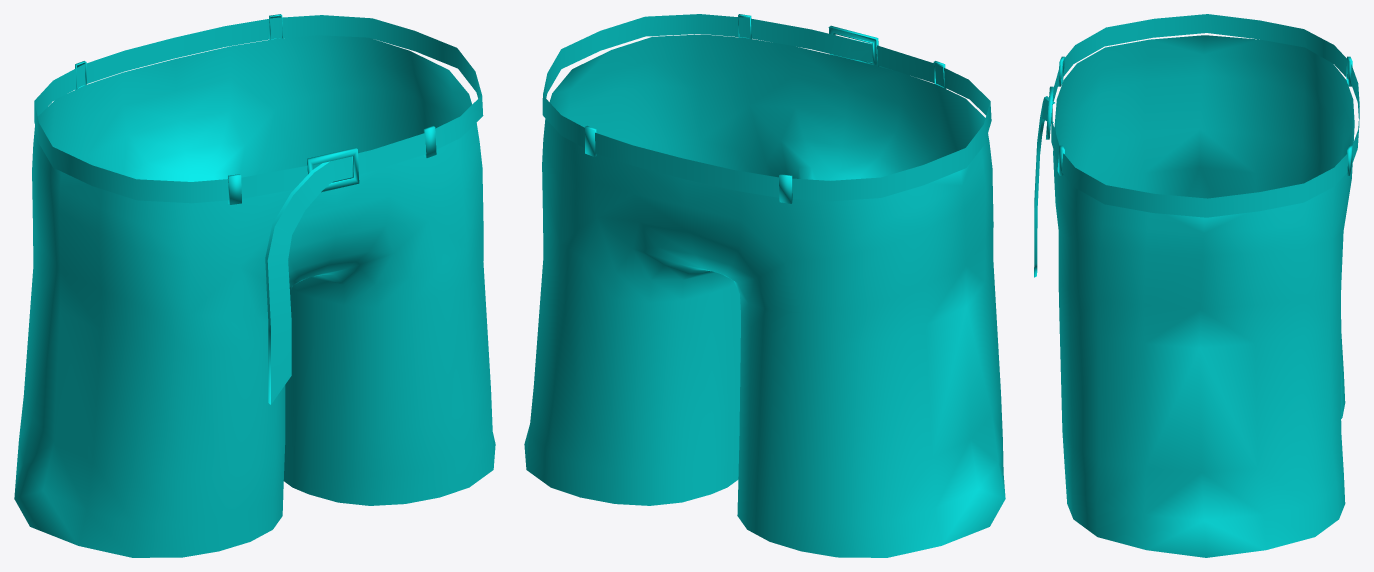
The picture shows the model from 3 angles, left to right: view 1: azimuth 30°, elevation 25°; view 2: azimuth 150°, elevation 25°; view 3: azimuth 270°, elevation 25°; orthographic projection. The views are drawn at different scales.
Parts seen in each view (by area): view 1: P_F; view 2: P_F; view 3: P_F.
Part boxes in pixels (left/top/right/bottom): P_F: left=14, top=14, right=495, bottom=557; P_F: left=524, top=14, right=1005, bottom=557; P_F: left=1034, top=14, right=1359, bottom=557.
Bounding box in the file's own units: 128 × 103 × 85.84.
